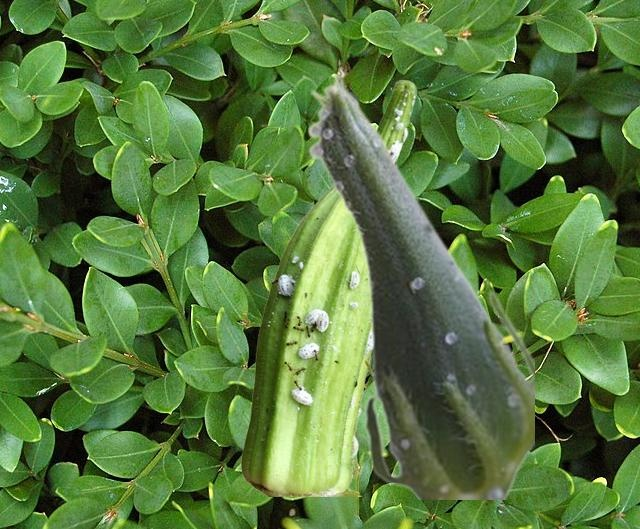okra: (306, 72, 533, 498), (241, 80, 416, 495)
